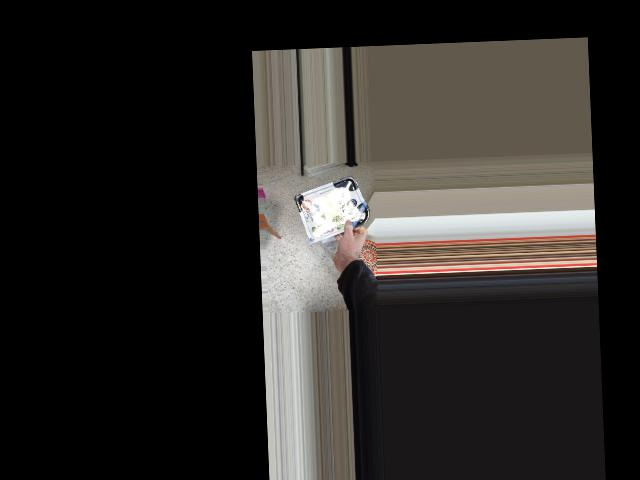cheese: (302, 182, 366, 231)
